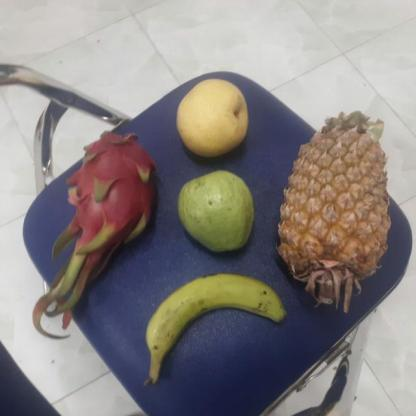banana: (140, 272, 278, 366)
guava: (174, 172, 254, 252)
pear: (173, 80, 251, 158)
pineapple: (279, 116, 391, 303)
pitaya: (66, 130, 160, 246)
